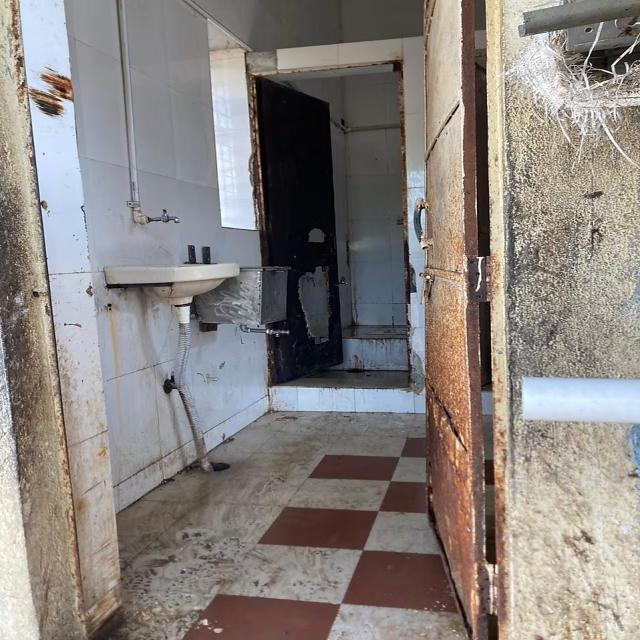damage: (168, 302, 217, 473)
dirty_floor: (3, 1, 636, 638), (495, 0, 639, 638), (109, 409, 470, 638), (1, 0, 91, 638), (245, 59, 413, 390), (418, 0, 493, 638), (20, 65, 74, 118)
